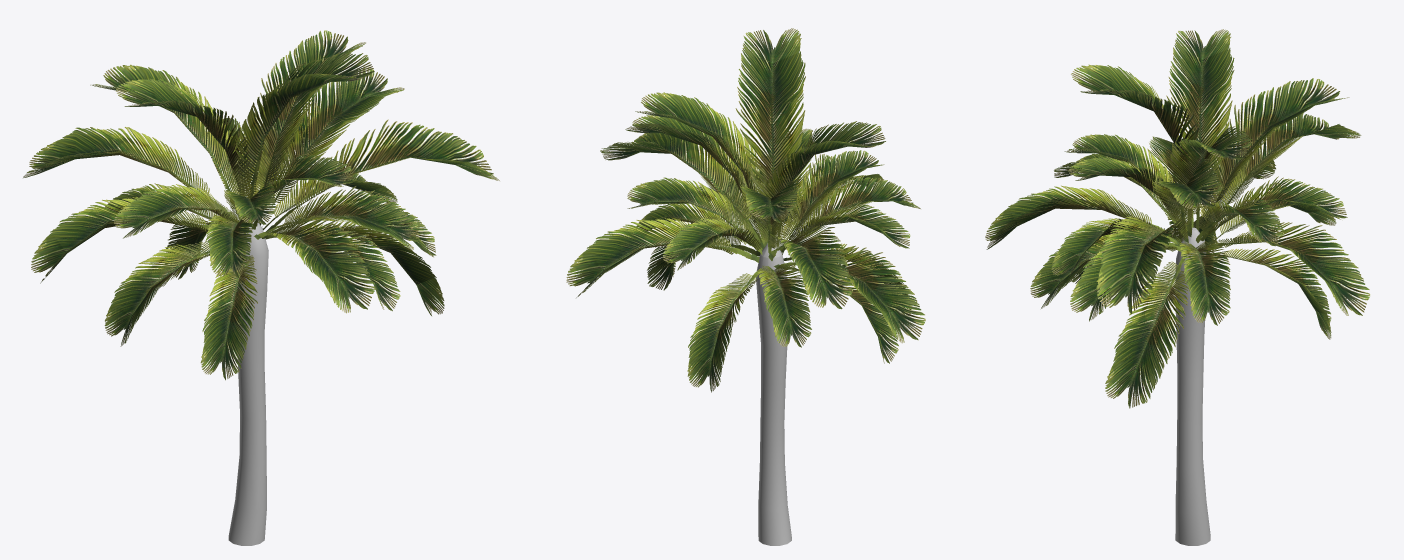
3 renders of one model, left to right at view 1: azimuth 30°, elevation 25°; view 2: azimuth 150°, elevation 25°; view 3: azimuth 270°, elevation 25°, orthographic. The views are drawn at different scales.
Parts seen in each view (by area): view 1: Model::blend_root; view 2: Model::blend_root; view 3: Model::blend_root.
Boxes of the visible parts, x1=… form: Model::blend_root: x1=23, y1=30, x2=499, y2=545; Model::blend_root: x1=566, y1=28, x2=925, y2=545; Model::blend_root: x1=985, y1=29, x2=1370, y2=545.
Size of the model in its own units: 3144 by 3533 by 2689.
